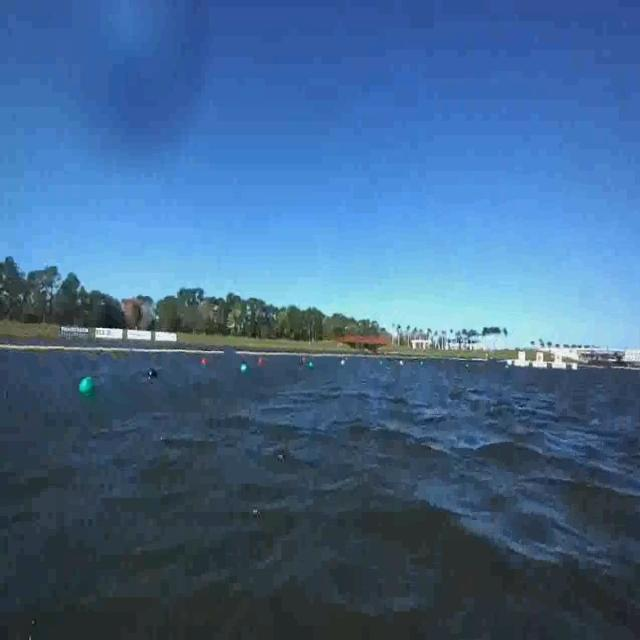green-buoy: (76, 374, 96, 396)
